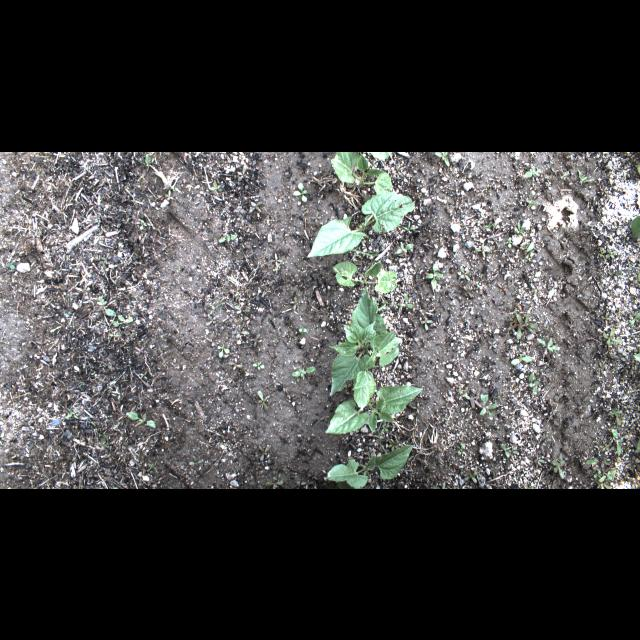crop: (329, 284, 403, 396), (307, 192, 415, 256), (324, 384, 424, 434), (328, 444, 414, 488), (330, 151, 392, 195), (332, 260, 396, 292), (352, 347, 376, 409), (630, 214, 640, 238), (368, 151, 392, 161)
weed: (514, 312, 538, 338), (371, 297, 409, 313), (425, 262, 445, 288), (479, 393, 499, 417), (346, 244, 386, 256), (127, 412, 155, 428), (550, 458, 570, 480), (601, 326, 623, 346), (378, 430, 392, 460), (97, 296, 117, 316), (536, 337, 560, 353), (110, 314, 134, 328), (612, 429, 624, 456), (292, 182, 308, 202), (596, 466, 616, 482), (88, 419, 104, 437), (257, 388, 269, 412), (292, 366, 316, 378), (576, 170, 594, 186), (613, 266, 639, 276), (394, 240, 414, 253), (524, 191, 540, 207), (257, 444, 271, 462), (522, 241, 536, 259), (511, 354, 534, 364), (236, 166, 250, 182), (204, 312, 220, 326), (212, 298, 228, 312), (497, 442, 511, 458), (434, 152, 450, 166), (529, 373, 539, 395), (218, 233, 238, 243), (264, 477, 284, 487), (524, 166, 542, 177), (140, 153, 154, 167), (206, 332, 220, 346), (464, 468, 478, 482), (457, 387, 471, 401), (391, 162, 405, 176), (228, 357, 244, 369), (188, 454, 204, 466), (586, 459, 610, 467), (604, 247, 618, 260), (249, 200, 263, 212), (217, 344, 231, 356), (249, 334, 263, 346), (270, 252, 282, 266), (476, 244, 490, 256), (459, 266, 471, 280), (234, 304, 250, 314), (462, 466, 478, 476), (403, 292, 413, 308), (66, 406, 78, 419), (421, 316, 432, 330), (596, 479, 612, 488), (600, 312, 612, 324), (6, 260, 20, 270), (101, 434, 111, 448), (209, 181, 223, 191), (236, 327, 250, 337), (322, 466, 332, 480), (288, 296, 298, 310), (516, 222, 526, 236), (463, 284, 473, 298), (402, 220, 416, 230), (387, 440, 401, 450), (412, 402, 423, 414), (273, 472, 283, 484), (290, 476, 300, 488), (311, 210, 321, 222), (512, 225, 522, 237), (534, 454, 546, 464), (630, 312, 640, 324), (610, 407, 622, 417), (614, 414, 624, 426), (252, 362, 266, 370), (390, 438, 398, 452), (504, 236, 514, 247), (164, 188, 173, 200), (559, 170, 569, 180), (488, 340, 498, 350), (543, 433, 553, 443), (620, 363, 630, 373), (626, 352, 636, 362), (594, 179, 604, 189), (472, 469, 482, 479), (380, 424, 390, 434), (507, 323, 517, 333), (508, 316, 518, 326), (140, 218, 148, 230), (301, 202, 309, 214), (316, 192, 324, 204), (599, 246, 607, 258), (588, 476, 600, 484), (614, 306, 626, 314), (244, 314, 253, 324), (301, 482, 315, 488), (484, 222, 498, 228), (634, 438, 640, 452), (232, 291, 240, 301), (271, 379, 281, 387), (592, 471, 602, 479), (457, 445, 465, 455), (140, 369, 148, 378), (633, 342, 639, 354), (633, 272, 639, 284), (433, 482, 445, 488), (98, 254, 105, 264), (148, 463, 156, 471), (299, 326, 307, 334), (550, 166, 558, 174), (600, 443, 608, 451), (621, 374, 629, 382), (600, 186, 608, 194), (521, 242, 531, 248), (573, 358, 583, 364), (598, 362, 604, 372), (507, 447, 517, 453), (633, 353, 639, 362), (620, 428, 628, 434), (636, 163, 640, 173), (117, 392, 121, 401), (90, 369, 96, 375), (352, 250, 356, 258), (170, 186, 176, 190), (607, 348, 611, 354), (109, 334, 119, 336), (424, 266, 430, 268), (70, 325, 74, 327)
